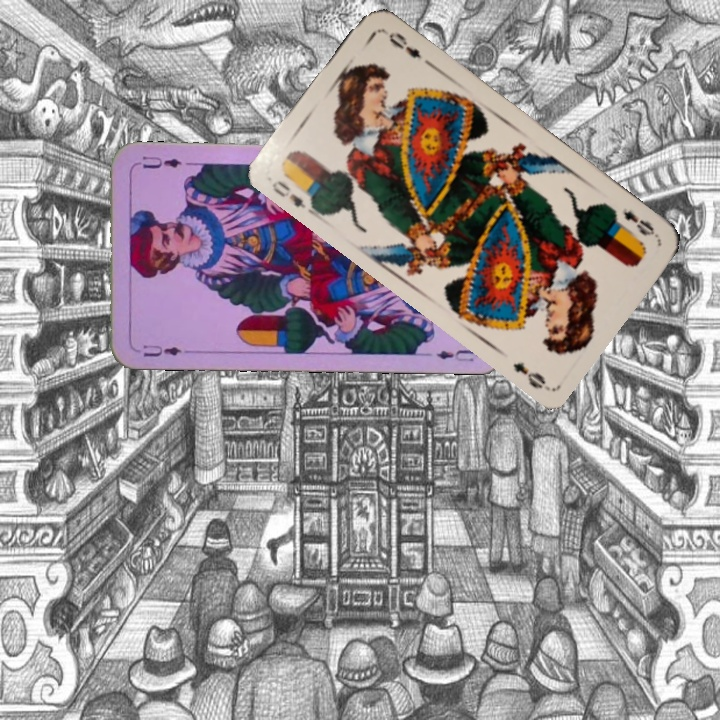EO: (268, 176, 317, 216), (608, 204, 661, 240)
EU: (139, 340, 191, 359)
